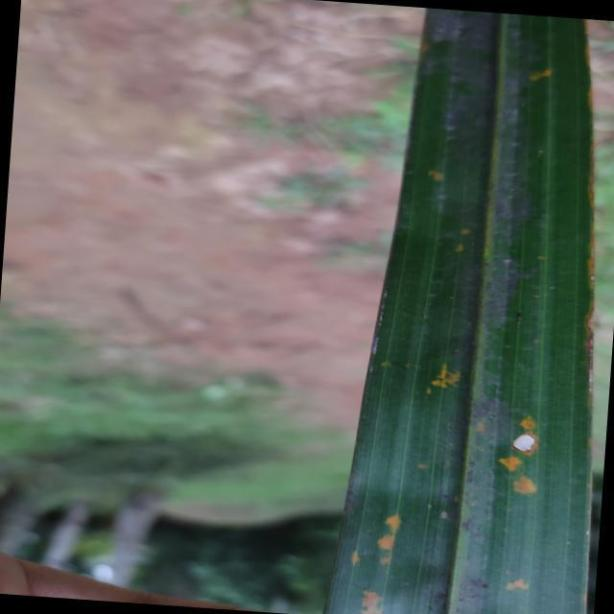Kalium: (331, 0, 593, 614)
